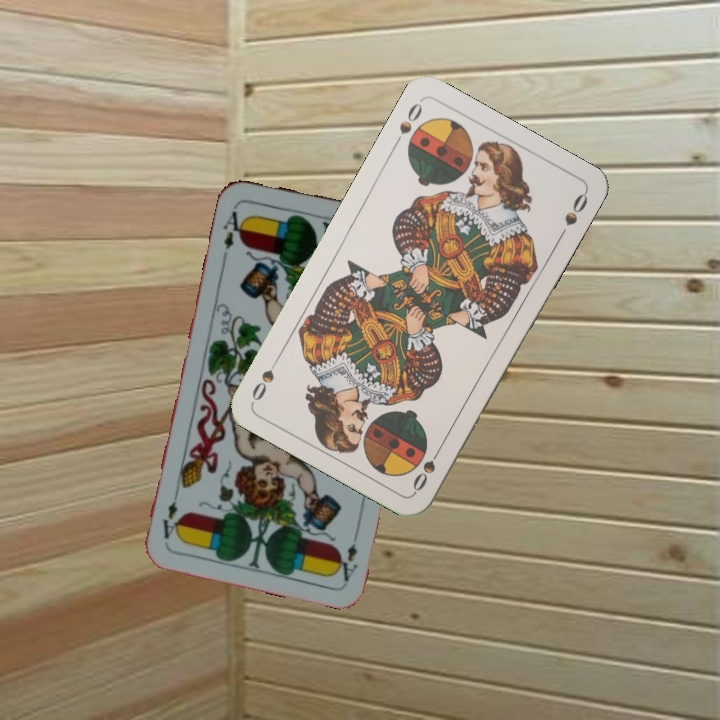EA: (333, 525, 362, 584), (219, 202, 249, 253)
SO: (408, 441, 445, 495), (389, 98, 425, 150)
